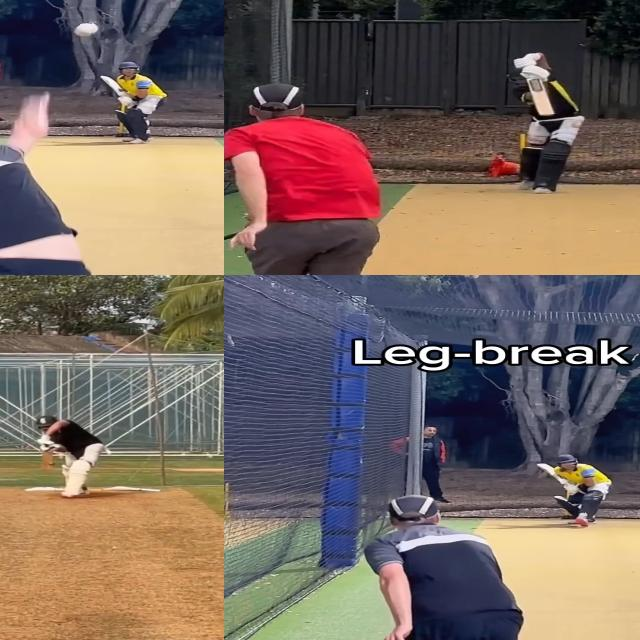Cricket ball: (73, 23, 100, 38), (578, 512, 589, 519), (49, 461, 54, 466)
